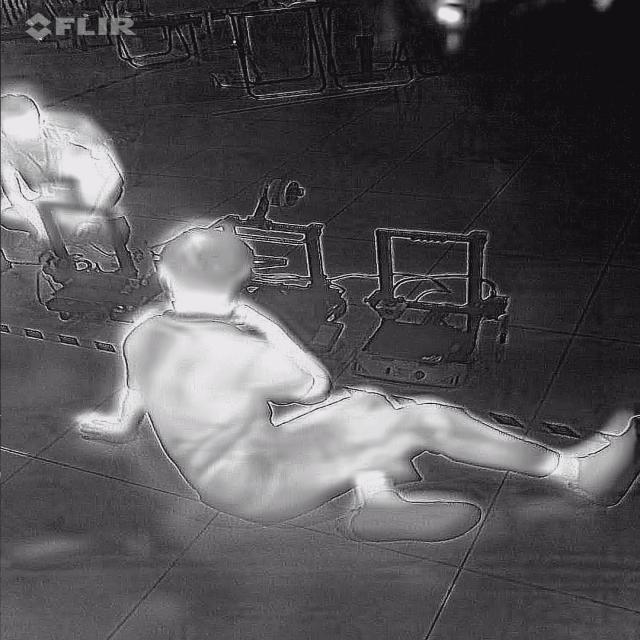Victim: (56, 226, 638, 548), (0, 72, 148, 265)
